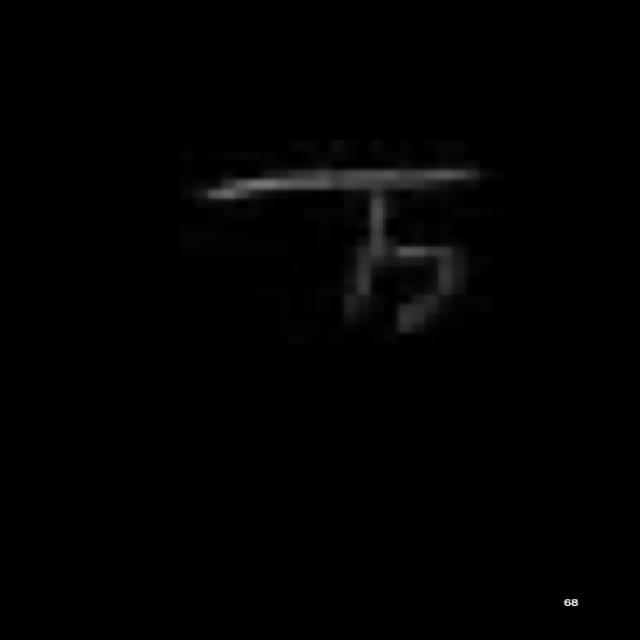10000 -a ten thousand-: (191, 154, 484, 359)
